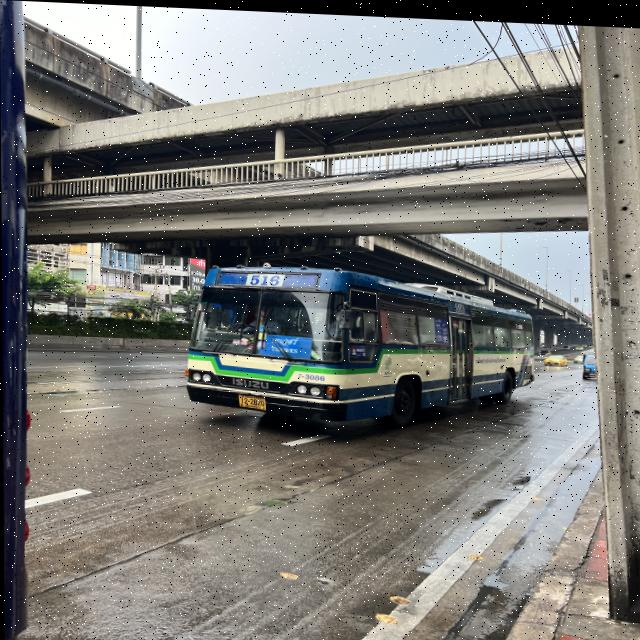BMTA-bus: (185, 264, 536, 429)
Bus Line Number: (247, 270, 283, 284)
Bus Side Number: (292, 369, 327, 380)
Destination Sign: (262, 331, 310, 355)
